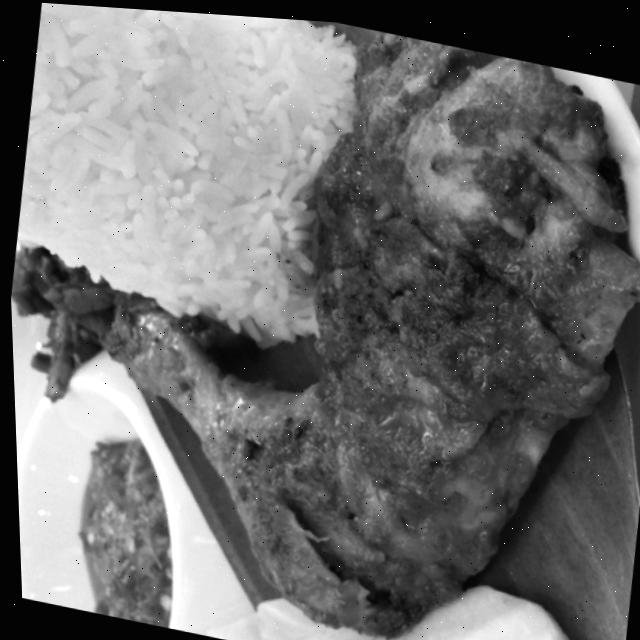鸡肉料理 含炸鸡: (10, 1, 640, 640)
